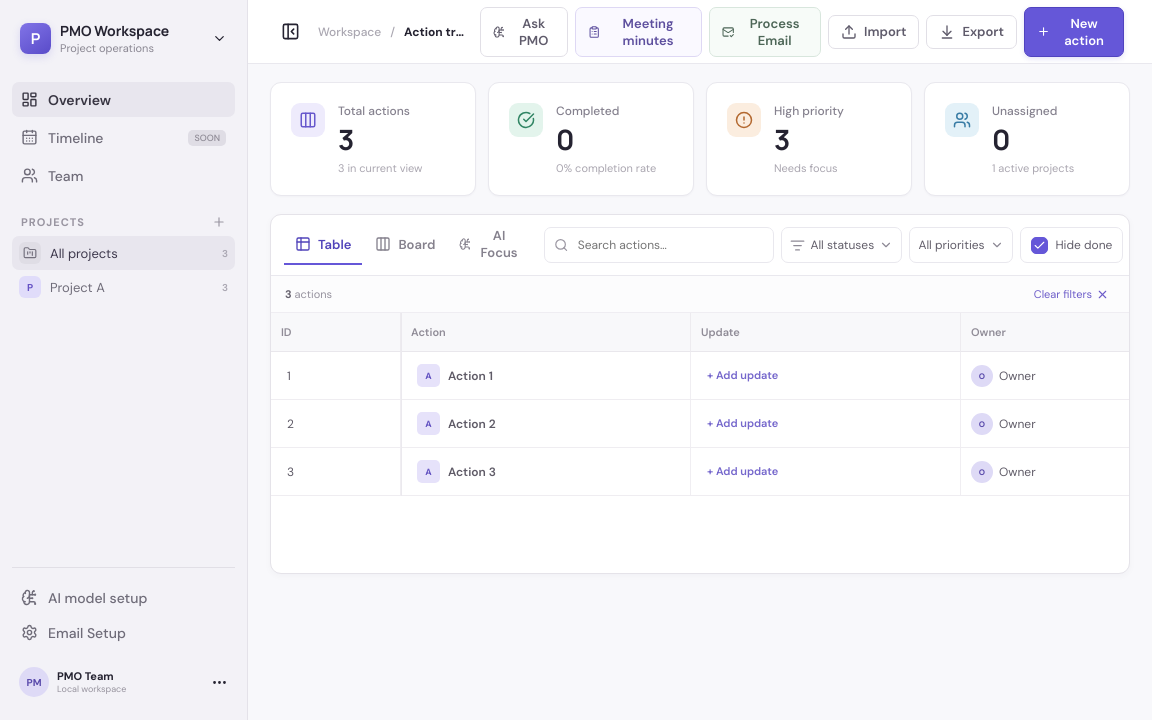
Test: Ask PMO persistence › keeps the previous response after the window closes and reopens
This screenshot has width=1152, height=720.
Click the button "Ask PMO".
click(524, 32)  # box [480,6,568,56]
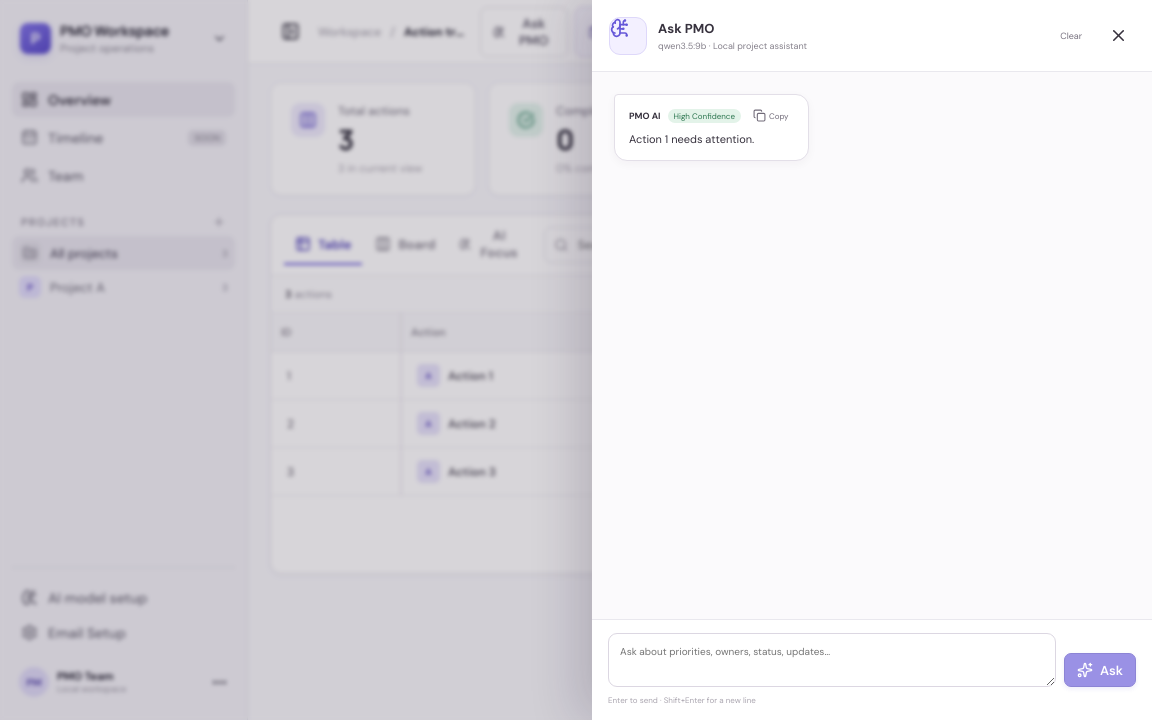
Check: the text "Action 1 needs attention." is shown, box [629,132,754,146]
Click the button named "Close".
click(1118, 36)  # box [1101,18,1135,52]
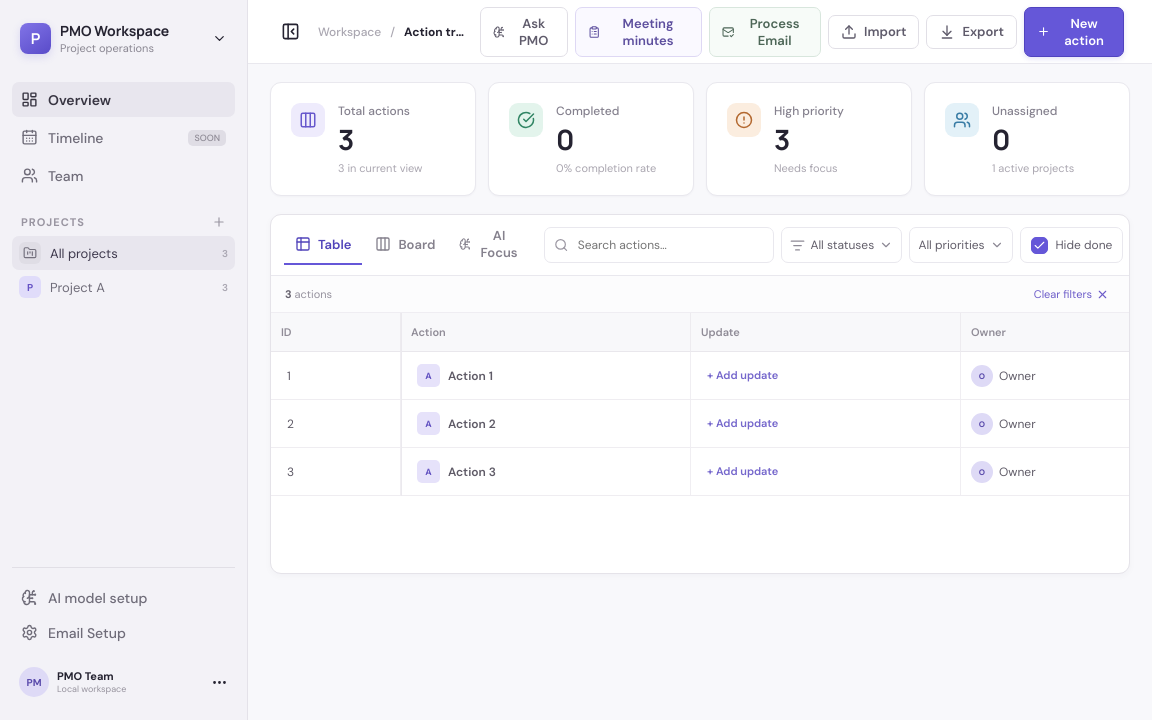
Check: the text "Action 1 needs attention." is gone
Click the button "Ask PMO".
click(524, 32)  # box [480,6,568,56]
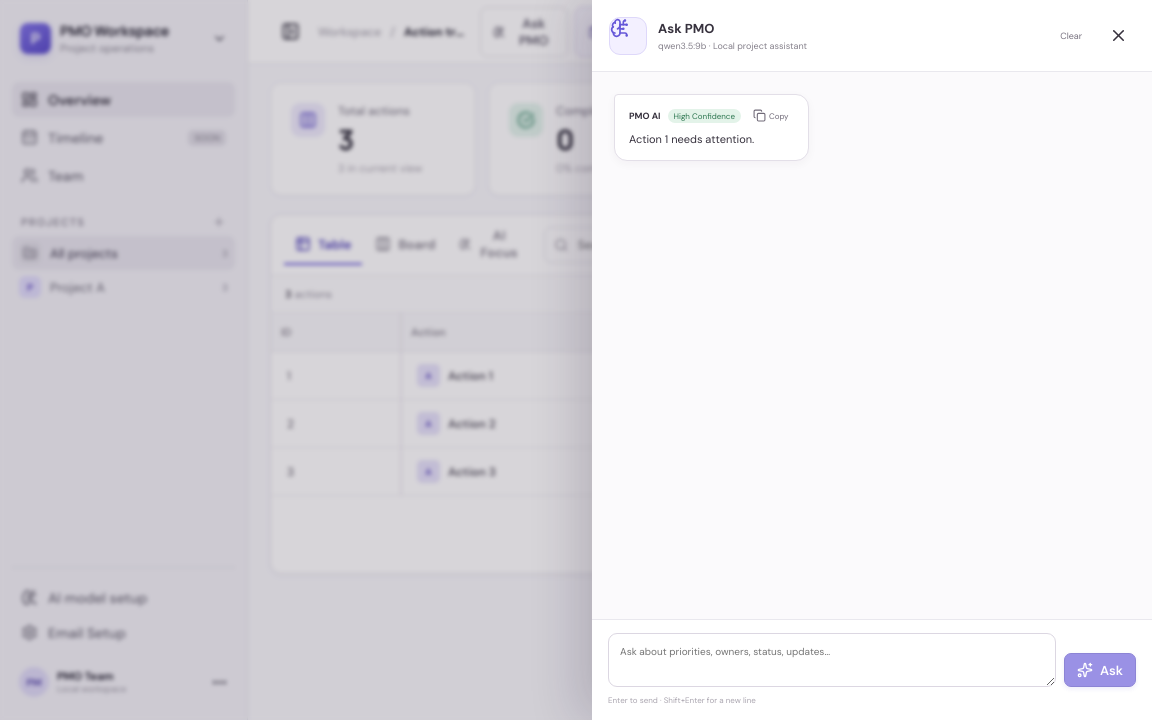
Check: the text "Action 1 needs attention." is shown, box [629,132,754,146]
